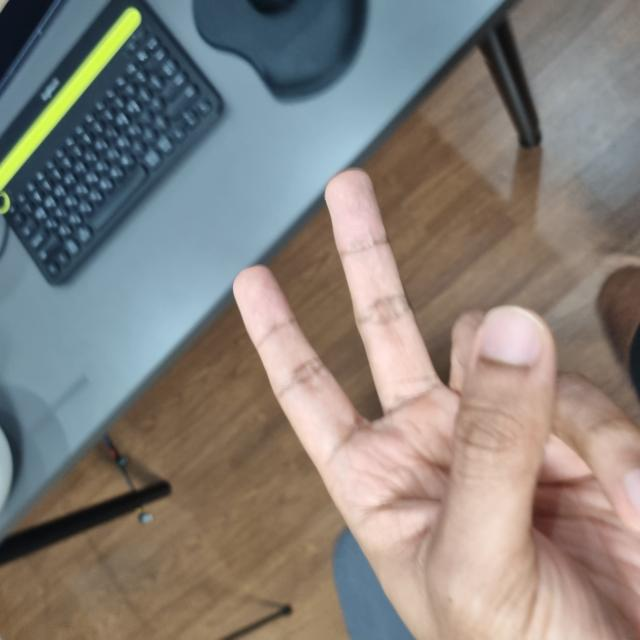Scissors: (0, 242, 467, 639)
